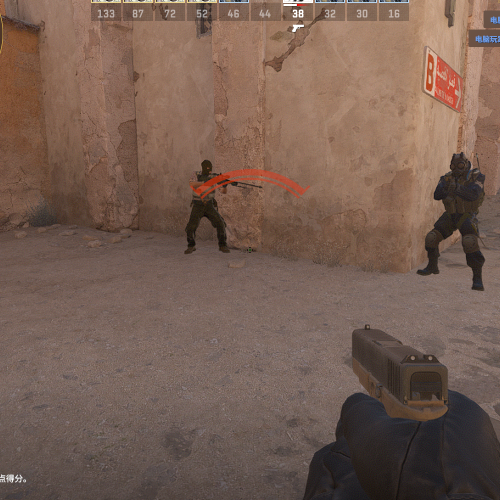ct_body: (417, 153, 486, 289)
ct_head: (450, 152, 469, 178)
t_body: (185, 158, 231, 255)
t_head: (201, 158, 213, 176)
